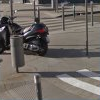crosswalk: (55, 66, 100, 96)
